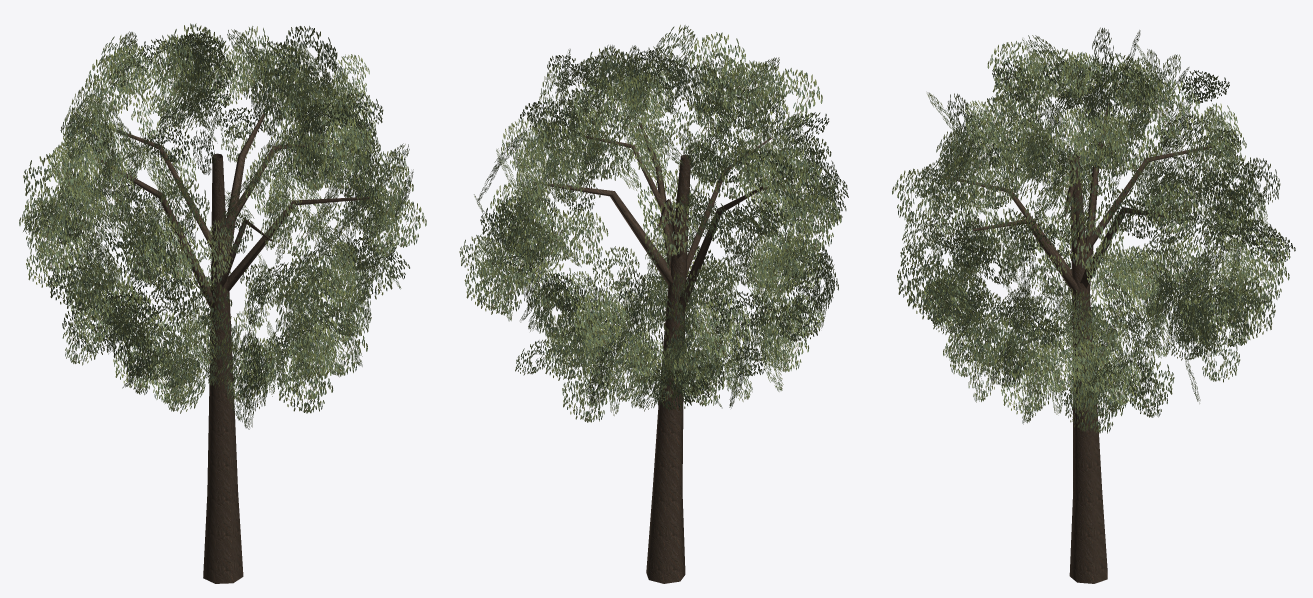
The model's file is tpl_farm_tall_yard_willow.glb.
The picture shows the model from 3 angles, left to right: view 1: azimuth 30°, elevation 25°; view 2: azimuth 150°, elevation 25°; view 3: azimuth 270°, elevation 25°; orthographic projection. The views are drawn at different scales.
Parts seen in each view (by area): view 1: tpl_farm_tall_yard_willow; view 2: tpl_farm_tall_yard_willow; view 3: tpl_farm_tall_yard_willow.
Part boxes in pixels (x1,y1,x2,y2): tpl_farm_tall_yard_willow: (19, 23, 426, 583); tpl_farm_tall_yard_willow: (459, 25, 848, 583); tpl_farm_tall_yard_willow: (892, 27, 1295, 583).
Bounding box in the file's own units: 11.15 × 15.75 × 11.15.
2 materials, 2 textured.
